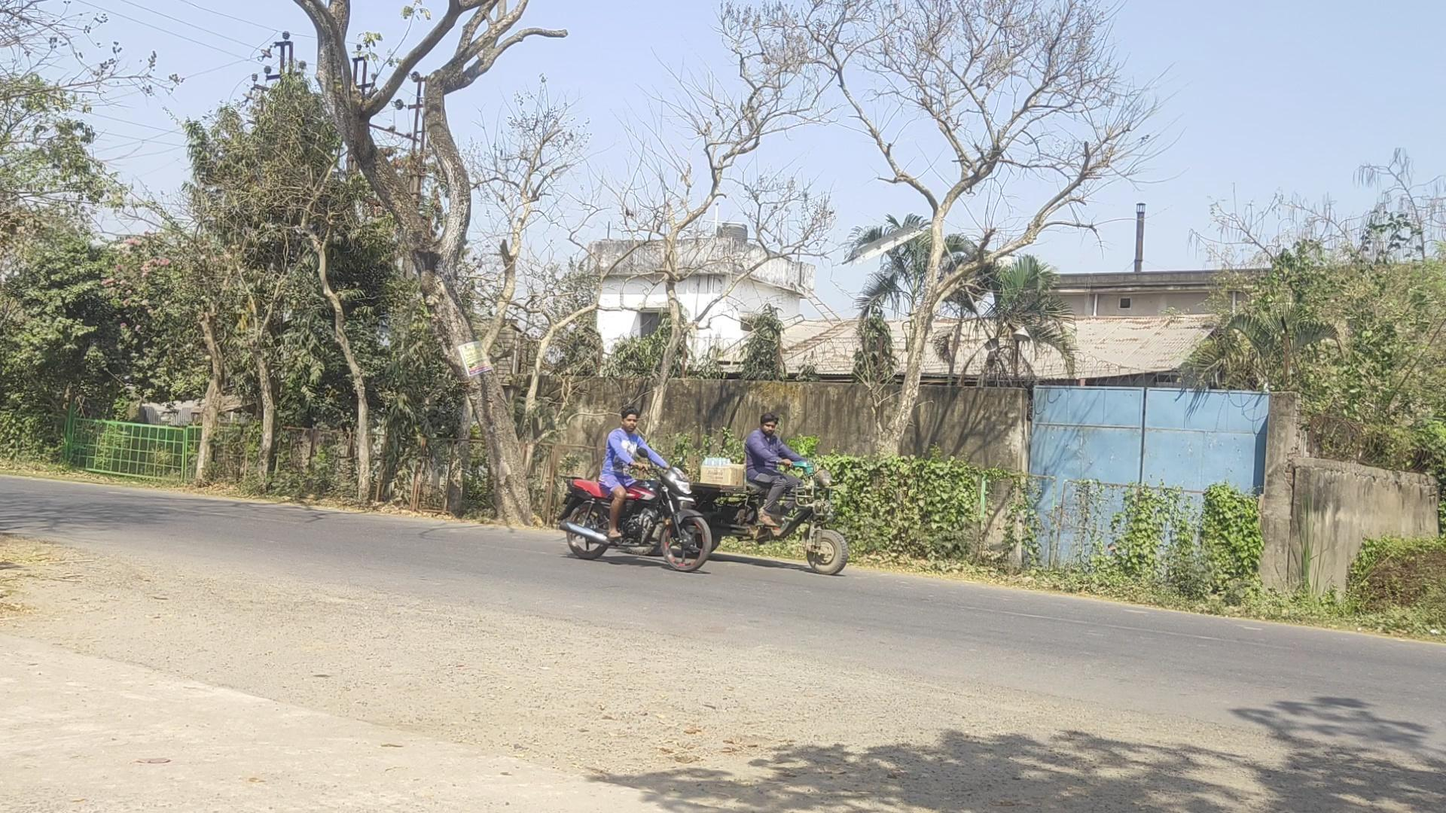bike: (560, 406, 712, 572)
